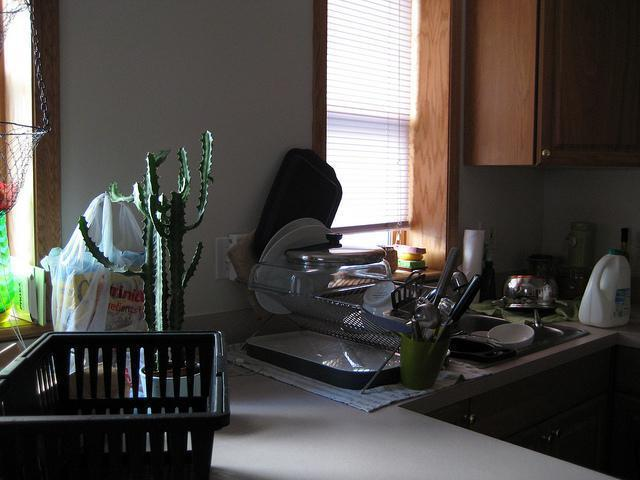Lavaplatos: (369, 234, 607, 390)
